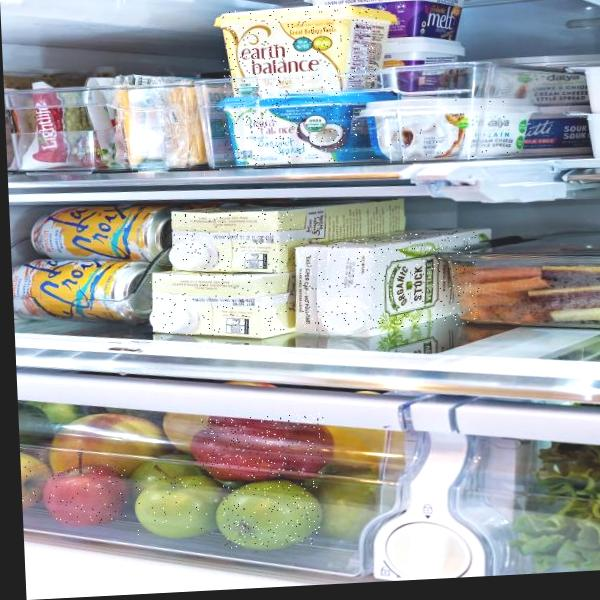apple: (220, 480, 321, 549), (135, 474, 216, 538), (47, 463, 128, 526), (20, 448, 44, 507)
cheese: (221, 4, 383, 95), (364, 95, 525, 163), (223, 90, 363, 167)
milk: (299, 230, 480, 333), (150, 267, 287, 340), (171, 207, 296, 273)
red bell pepper: (200, 413, 327, 481)
